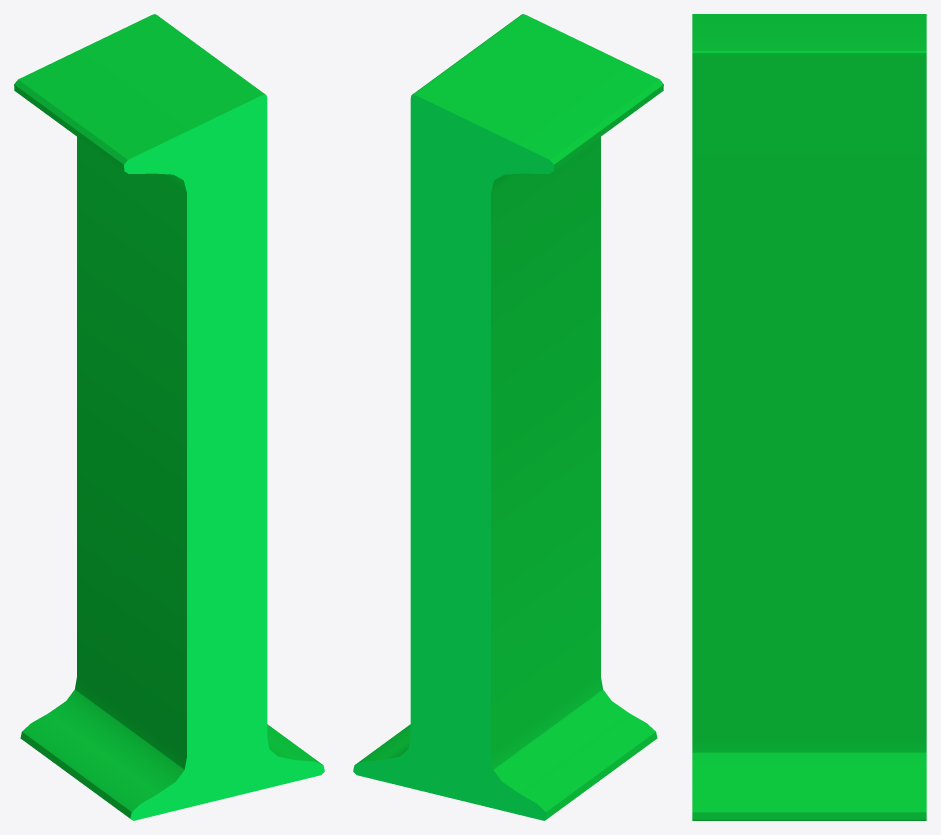
File: L_Soul_Green.glb
The picture shows the model from 3 angles, left to right: view 1: azimuth 30°, elevation 25°; view 2: azimuth 150°, elevation 25°; view 3: azimuth 270°, elevation 25°; orthographic projection. The views are drawn at different scales.
Parts seen in each view (by area): view 1: l_Soul_Green; view 2: l_Soul_Green; view 3: l_Soul_Green.
Boxes of the visible parts, x1=… form: l_Soul_Green: x1=14, y1=14, x2=324, y2=820; l_Soul_Green: x1=353, y1=14, x2=663, y2=820; l_Soul_Green: x1=692, y1=14, x2=926, y2=820.
Size of what is drawn, in the model's own units: 0.0475 by 0.1569 by 0.045.
2 materials, 2 textured.
